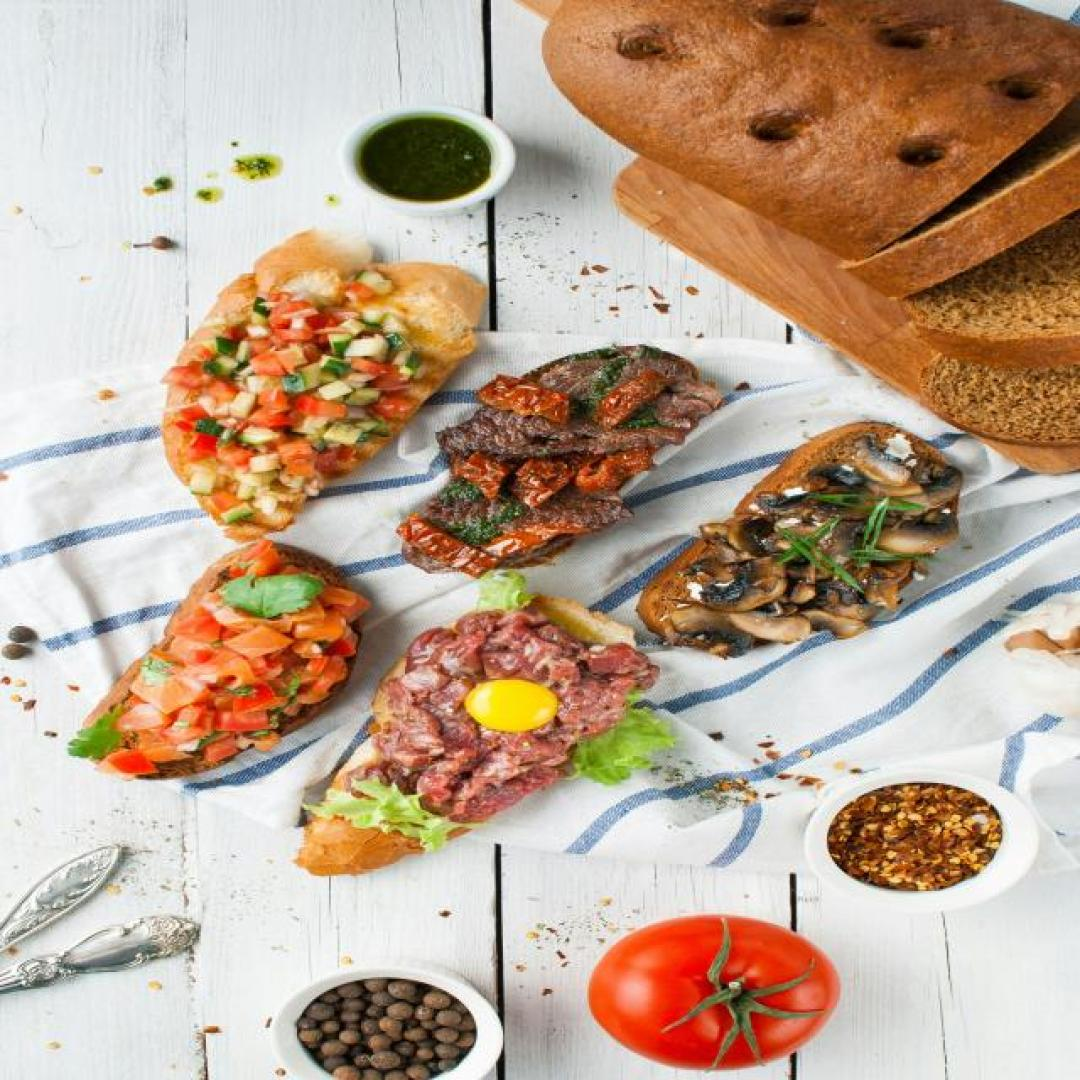matang: (587, 911, 842, 1073)
